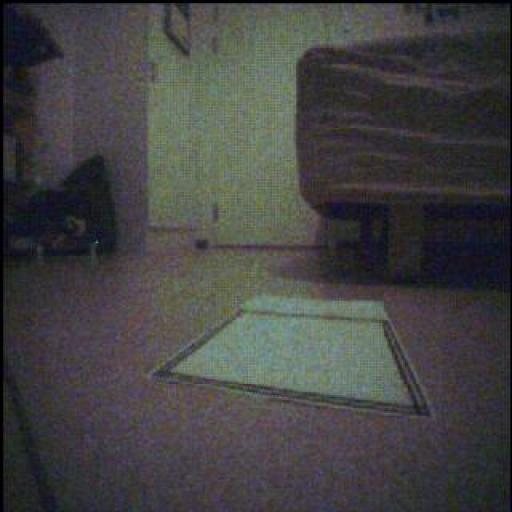pad: (153, 297, 430, 415)
